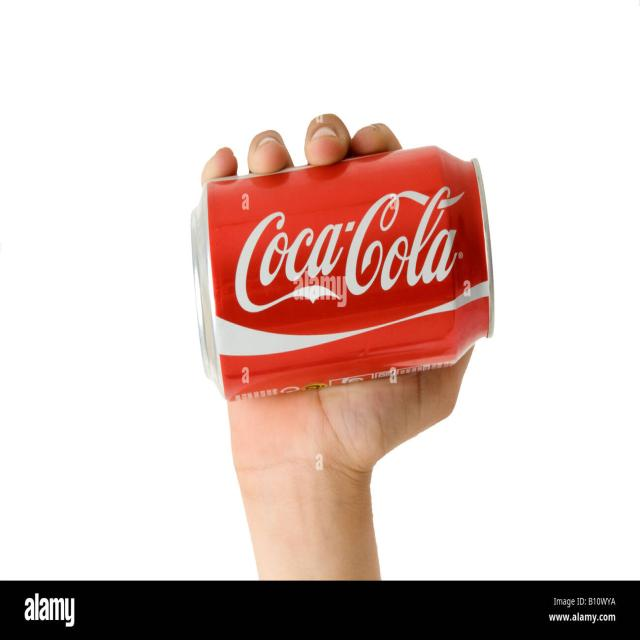cocacola: (177, 150, 507, 392)
